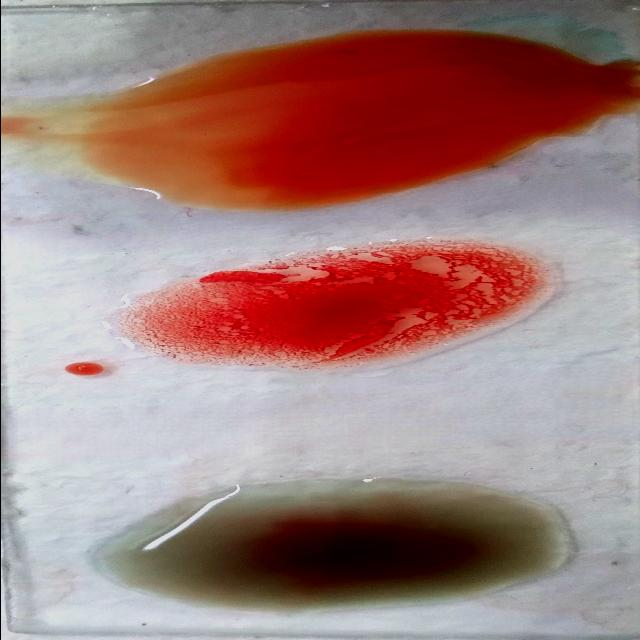D: (90, 236, 548, 368)
